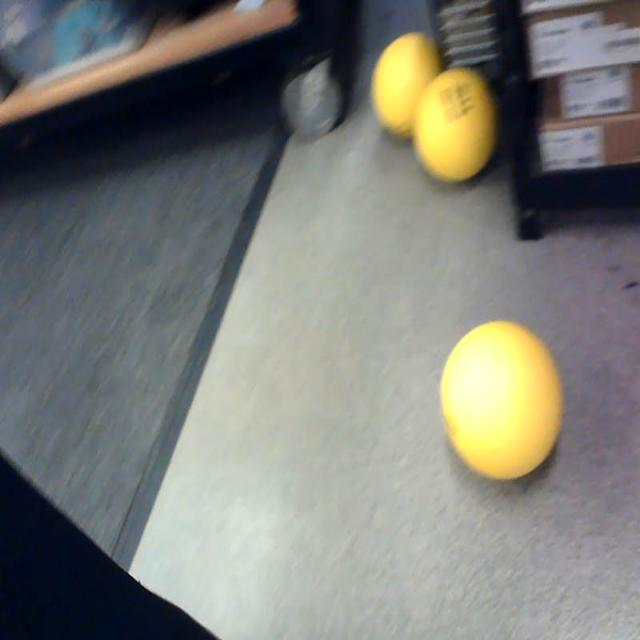Fuel: (441, 321, 563, 480), (417, 66, 497, 183), (374, 32, 442, 137)
